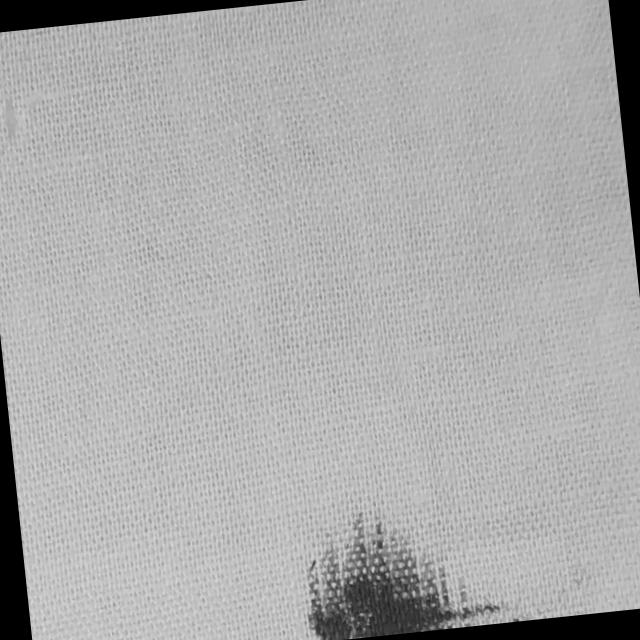Stain: (292, 494, 501, 640)
